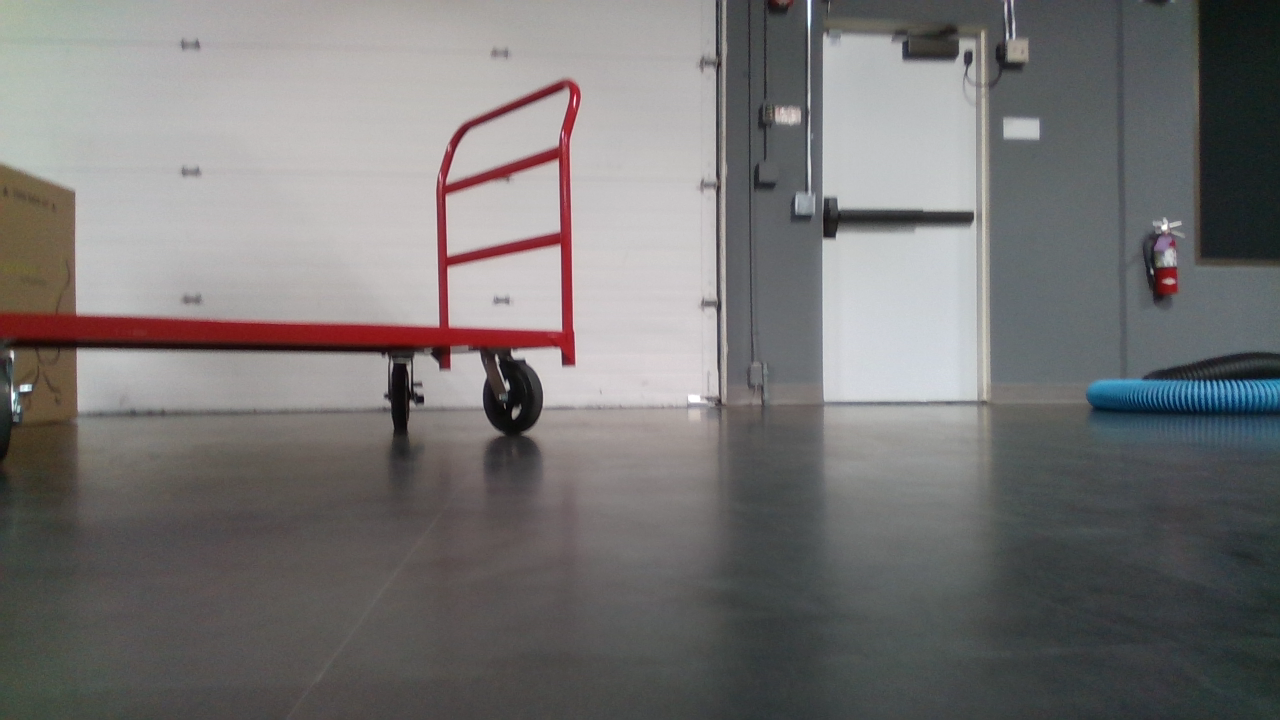Dolly: (0, 75, 582, 435)
Wheel: (483, 363, 546, 433), (0, 360, 23, 433), (386, 368, 413, 426)
